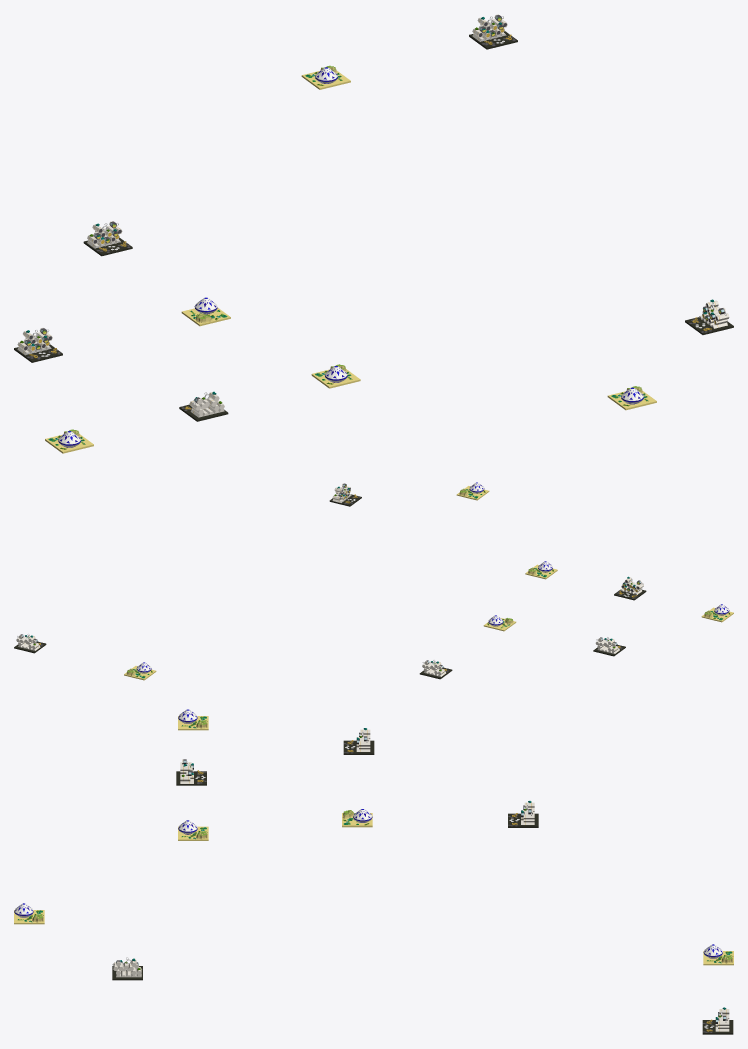
The model's file is D9_White_area_3.fbx.
The picture shows the model from 3 angles, top to bottom: view 1: azimuth 30°, elevation 25°; view 2: azimuth 150°, elevation 25°; view 3: azimuth 270°, elevation 25°; orthographic projection. The views are drawn at different scales.
Visible parts, largest first — view 1: Cube.348, Cube.352, Cube.350, Cube.343, Cube.345, Cube.349; view 2: Cube.345, Cube.343, Cube.350, Cube.348, Cube.352, Cube.344, Cube.346, Cube.347, Cube.351; view 3: Cube.352, Cube.348, Cube.343, Cube.345, Cube.350, Cube.344, Cube.351, Cube.346, Cube.347.
Part boxes in pixels (x1,y1,x2,y2): Cube.348: (14,327,62,362); Cube.352: (469,14,517,49); Cube.350: (83,221,132,256); Cube.343: (685,299,733,334); Cube.345: (179,391,228,421); Cube.349: (181,297,230,326); Cube.345: (614,576,646,600); Cube.343: (329,483,361,506); Cube.350: (419,659,452,679); Cube.348: (593,637,625,656); Cube.352: (14,633,46,653); Cube.344: (456,482,489,500); Cube.346: (701,604,733,622); Cube.347: (525,561,557,579); Cube.351: (124,662,156,680); Cube.352: (702,1007,733,1034); Cube.348: (343,728,374,754); Cube.343: (112,957,142,980); Cube.345: (176,759,206,785); Cube.350: (508,801,538,827); Cube.344: (14,903,44,924); Cube.351: (703,944,733,965); Cube.346: (178,709,208,730); Cube.347: (178,820,208,840).
Size of the model in its own units: 97953 by 3142 by 93989.
11 materials, 9 textured.
